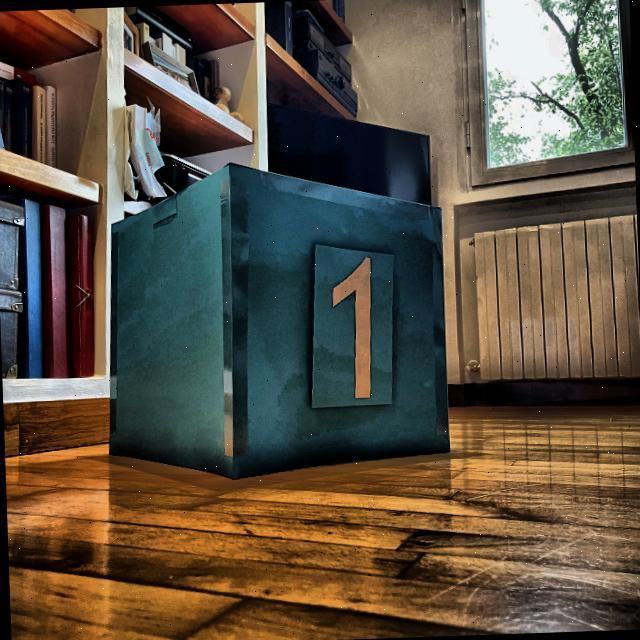blue box: (96, 146, 454, 488)
one: (324, 246, 381, 404)
